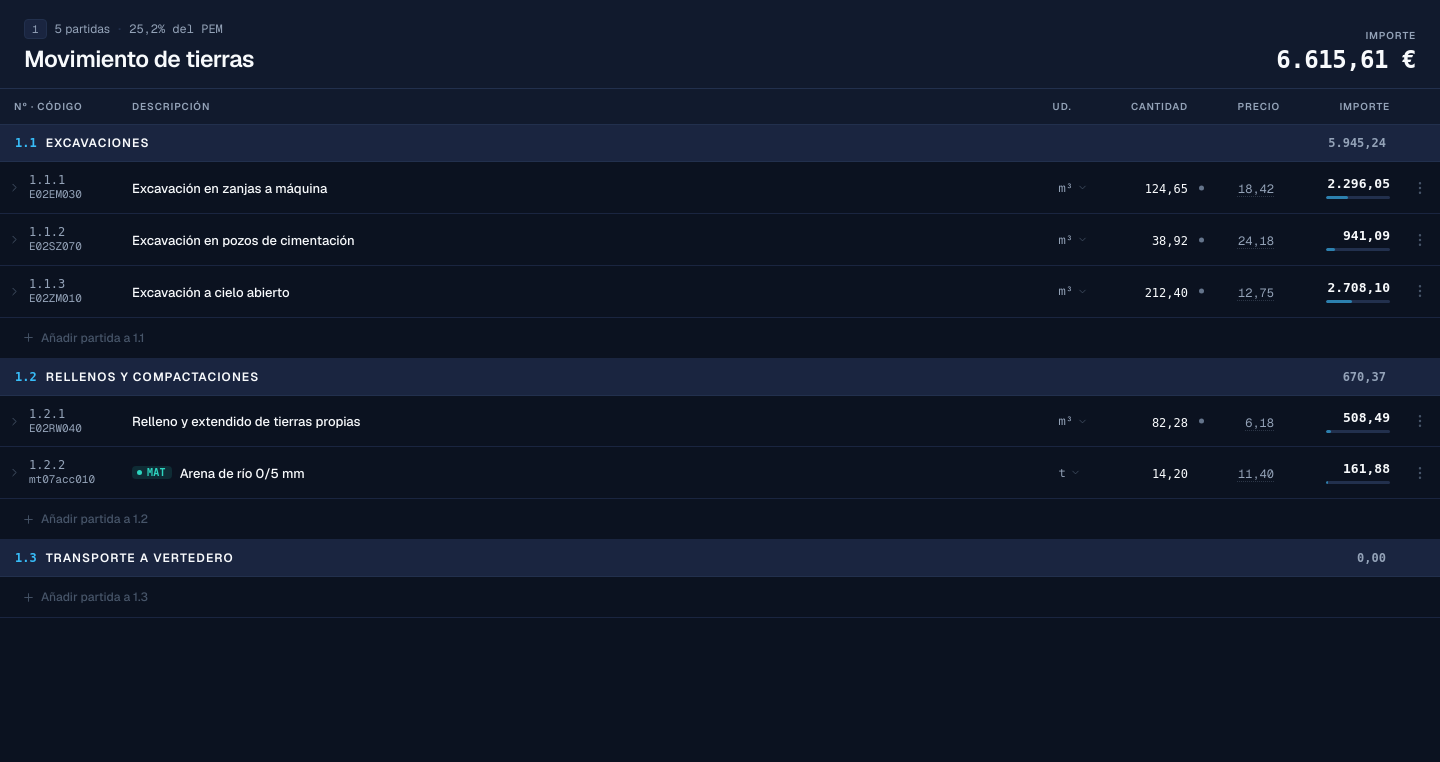
justificación: copy-on-write de partida base › editar una partida fromBase pregunta antes (sin "Editar en todas") y al copiar quita el chip BASE
The image size is (1440, 762).
Click the text "E02EM030" at [55, 195], box [29,188,82,202]
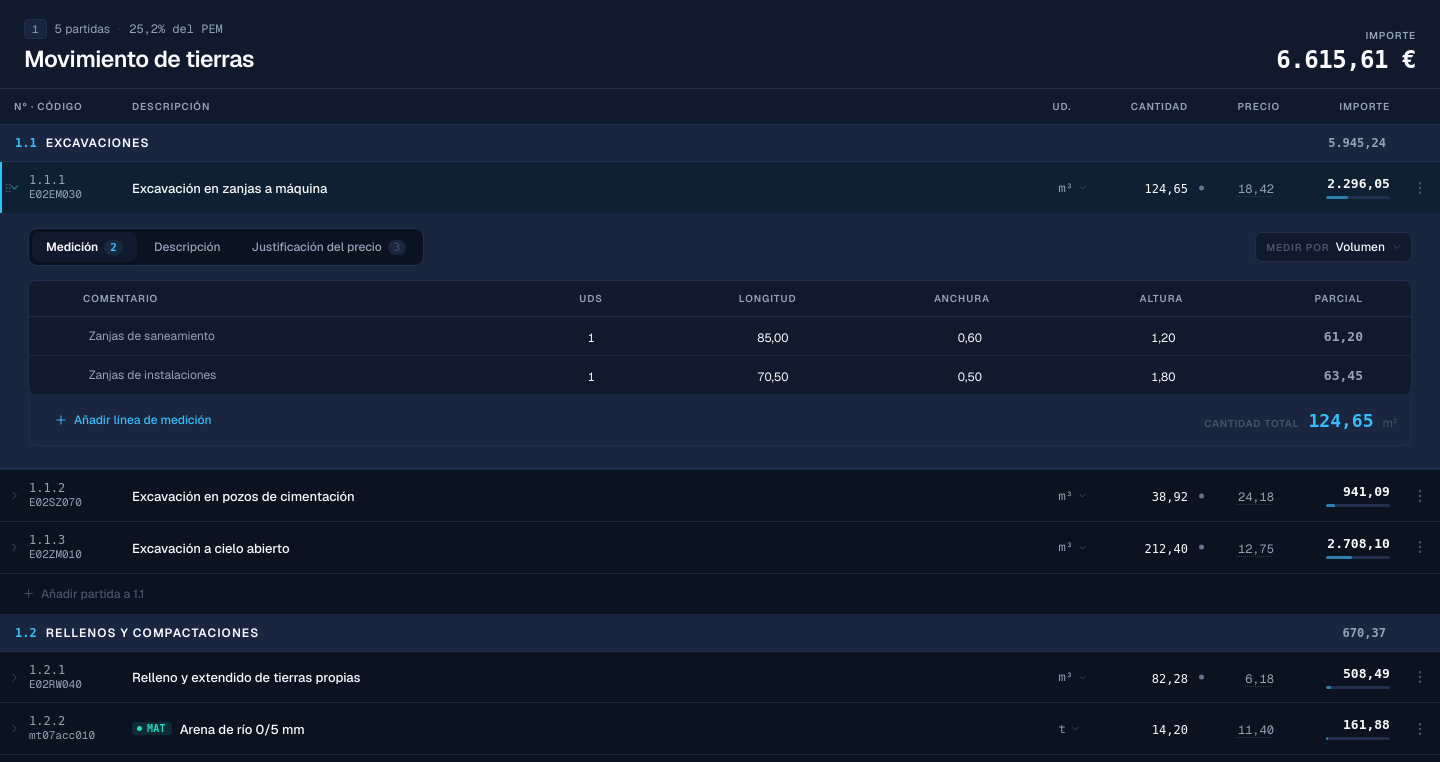
Click the button "Justificación del precio 3" at [329, 247], box [238,232,420,262]
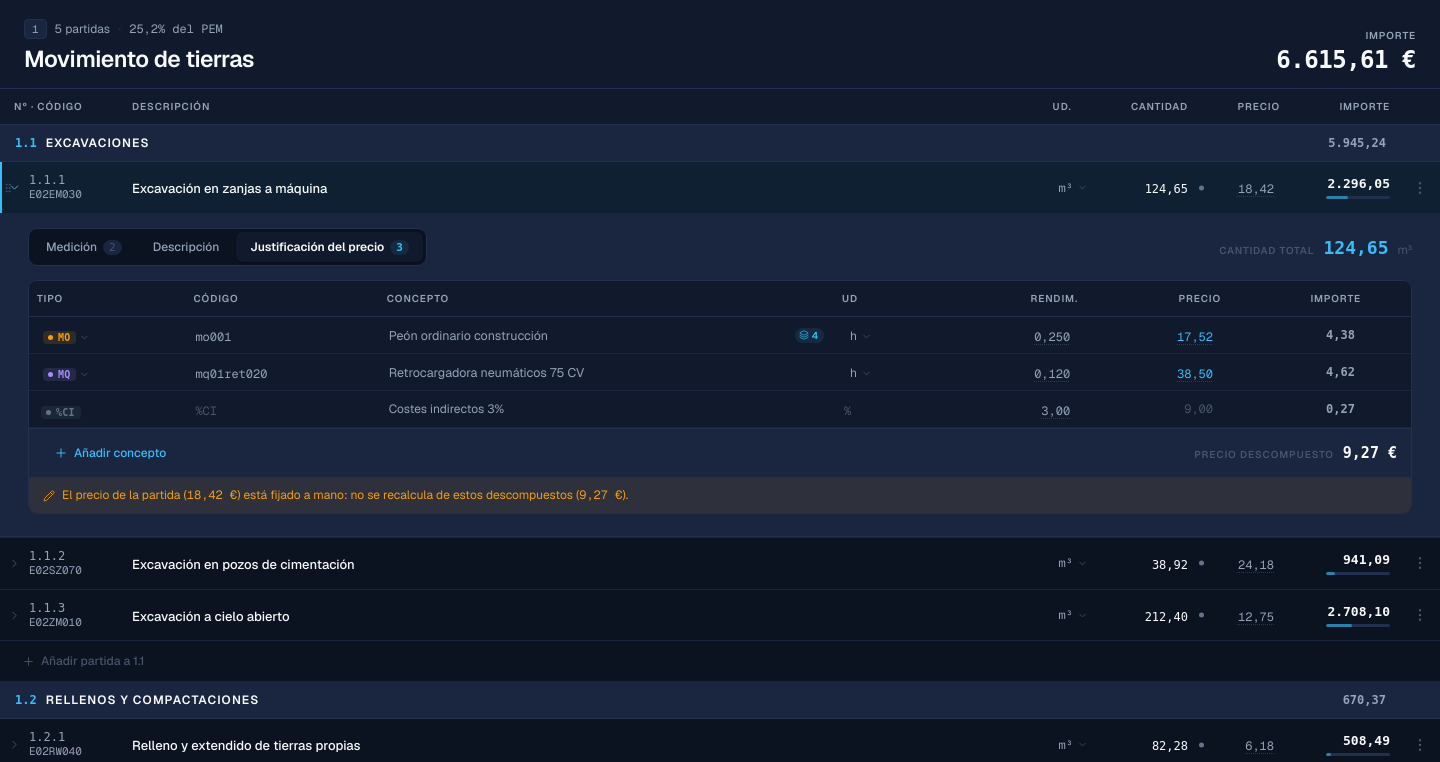
Click the field named "Código del recurso" at [213, 337], box [195,329,231,345]
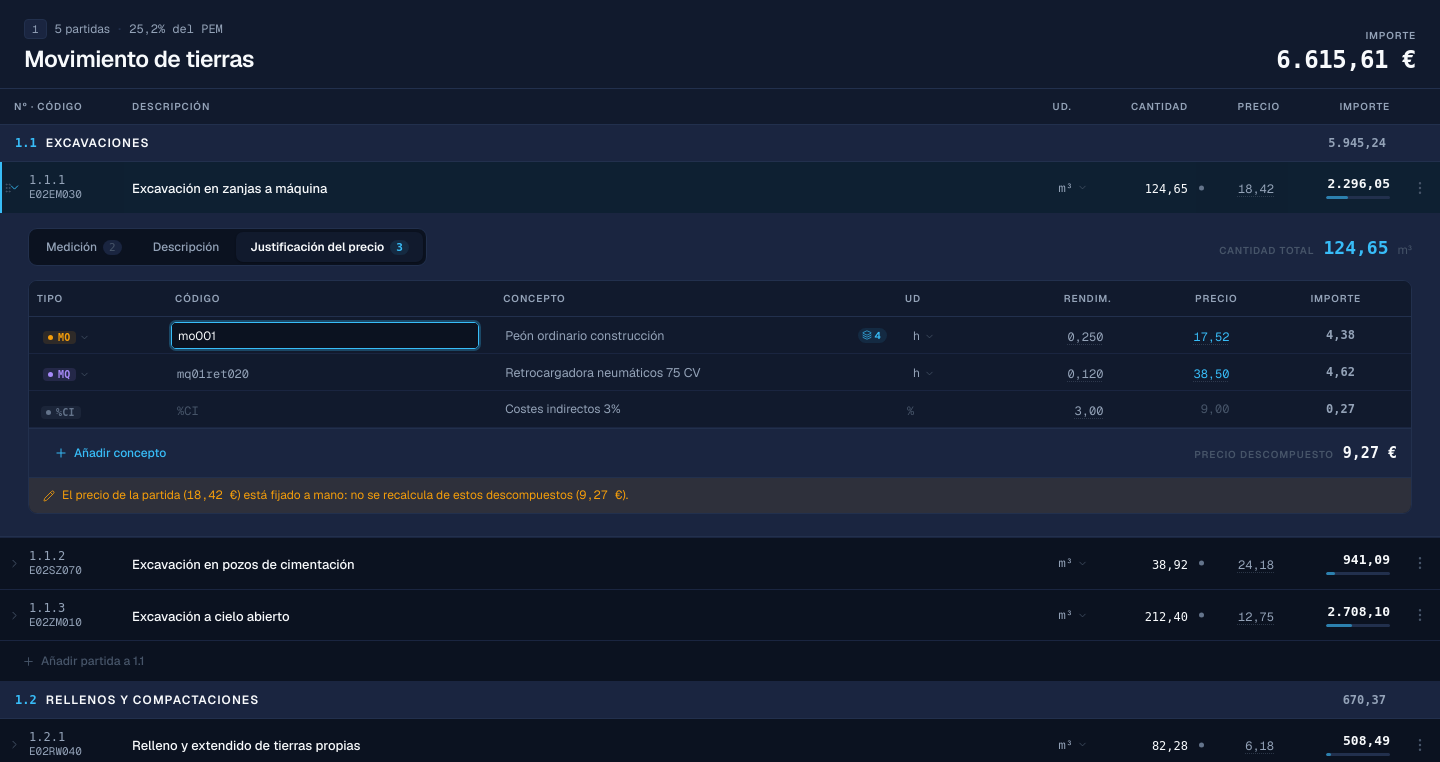
Replace the text in the text box named "Código del recurso" with "BASE9" at [325, 335], box [171,322,479,349]
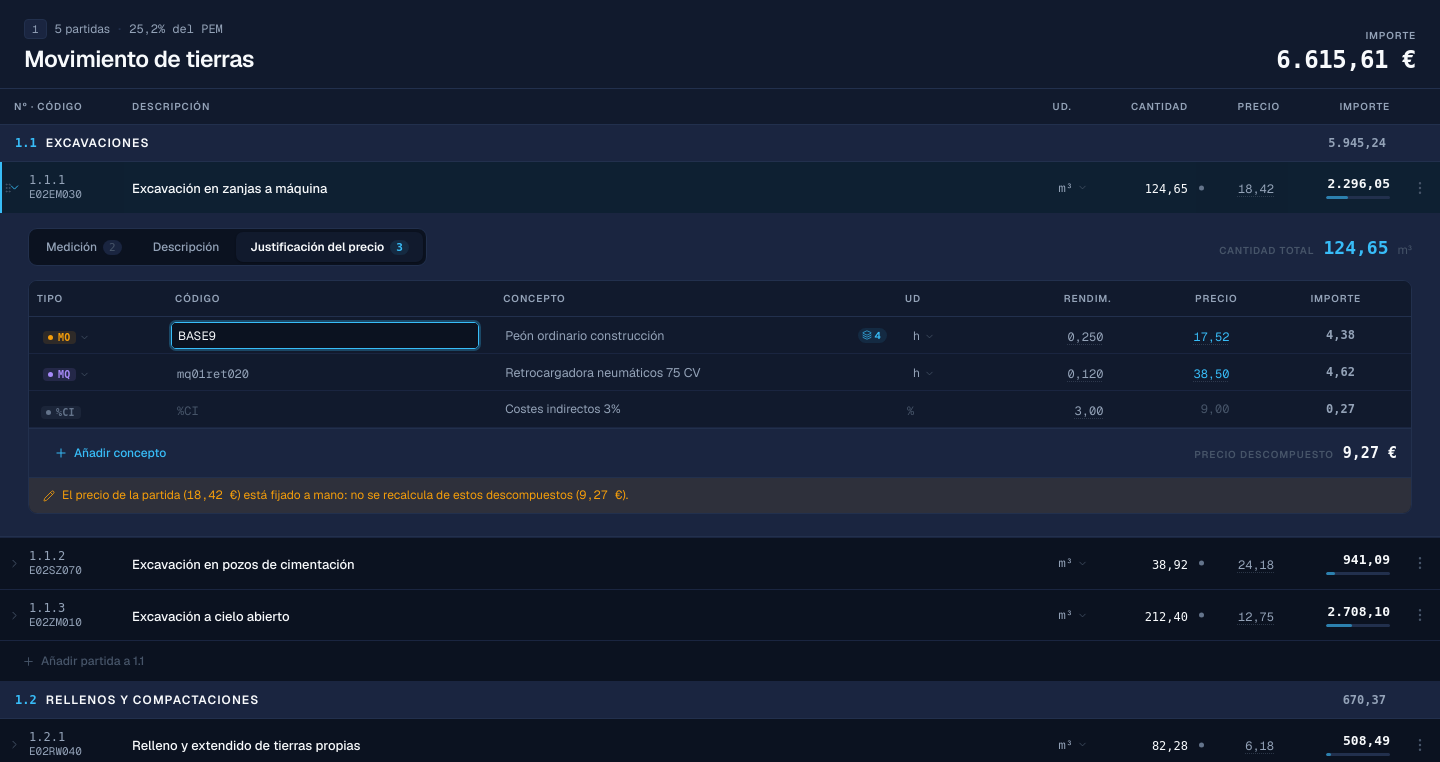
Press Enter in the text box named "Código del recurso", box [171,322,479,349]
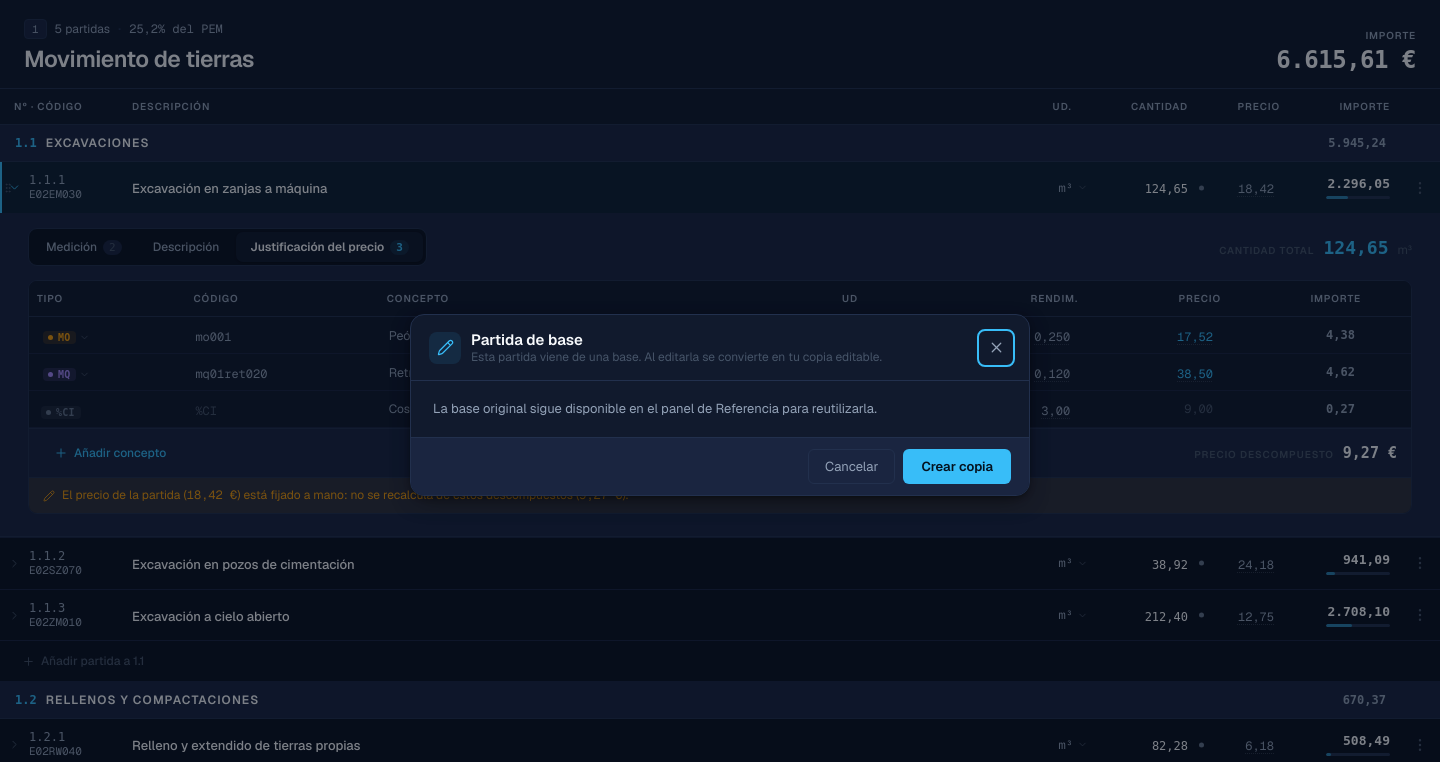
Now the button "Crear copia" is shown
Click the button "Crear copia" at [957, 466], box [903,449,1011,484]
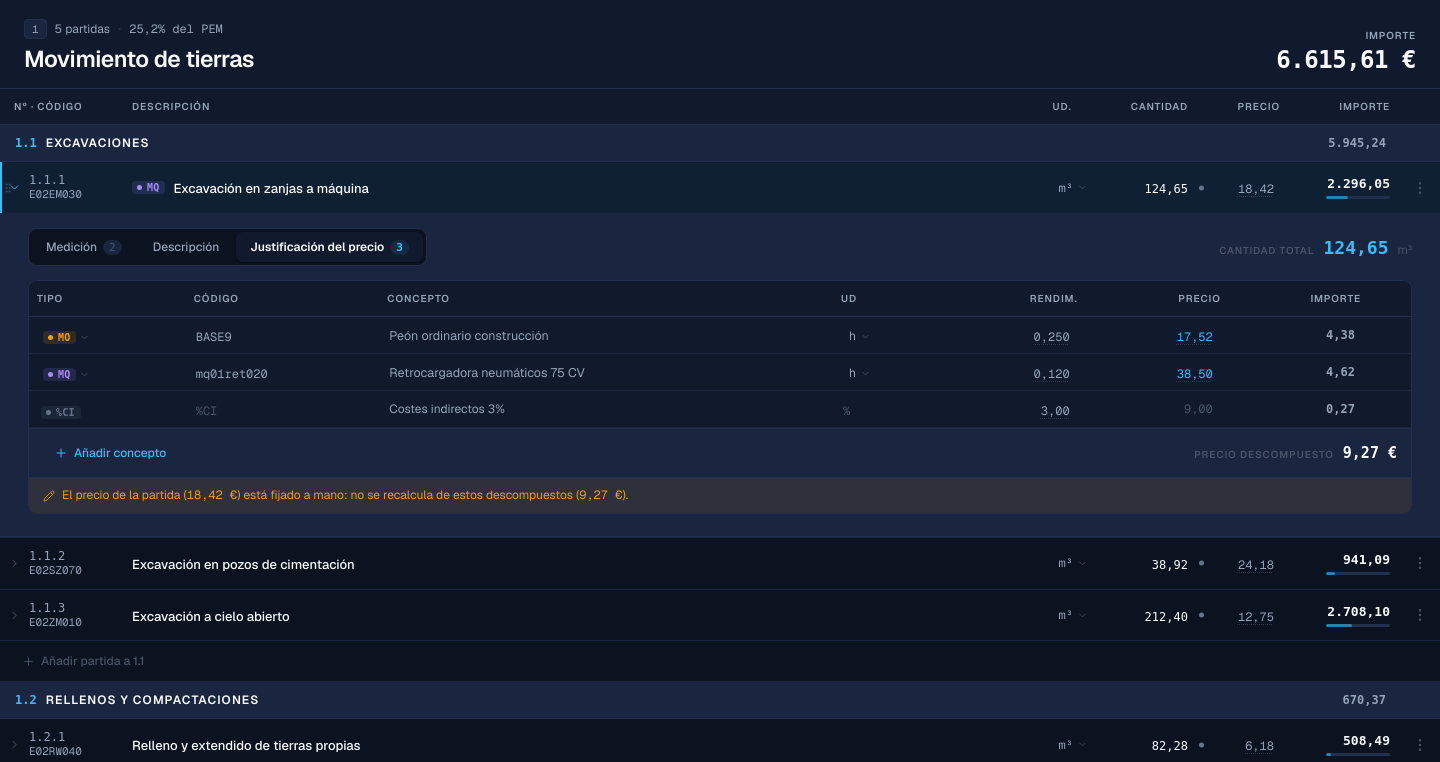
Now the field labelled "BASE9" is shown, box [196,329,232,345]
